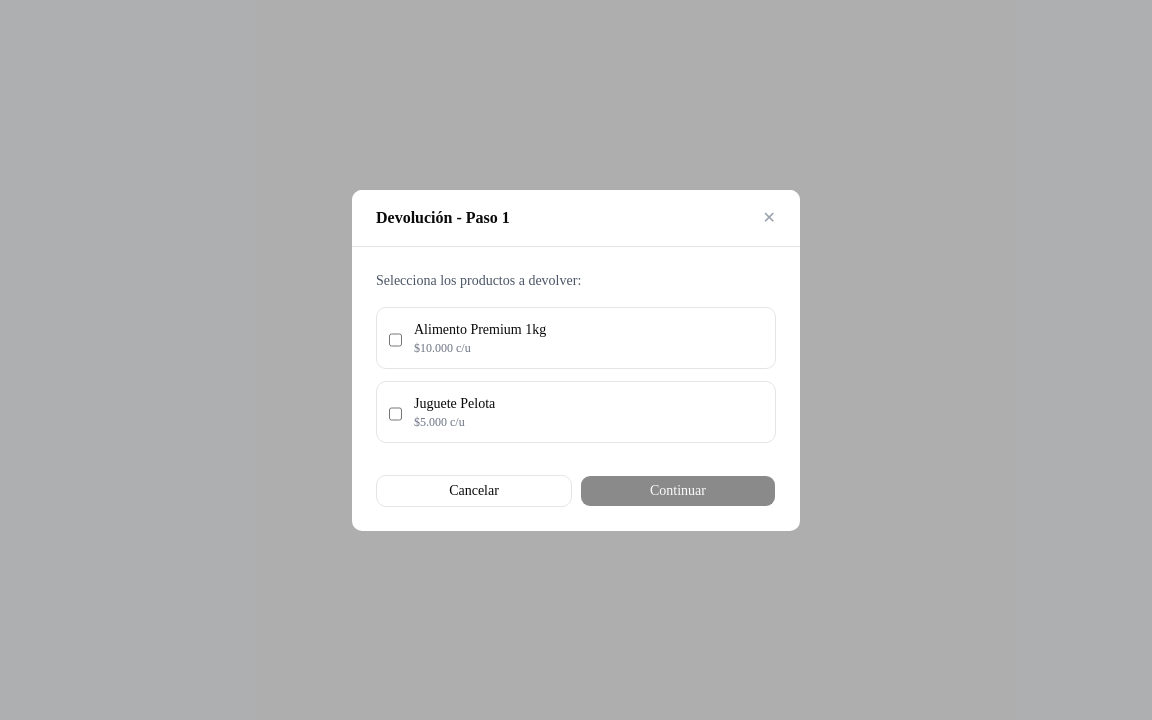
DevolucionModal — Paso 1: selección de ítems › DV-02: hacer click en el div del producto también selecciona el ítem
Clickear el texto del producto dentro del div clickeable
Click the text "Alimento Premium 1kg": (480, 329) x1=414 y1=322 x2=546 y2=336
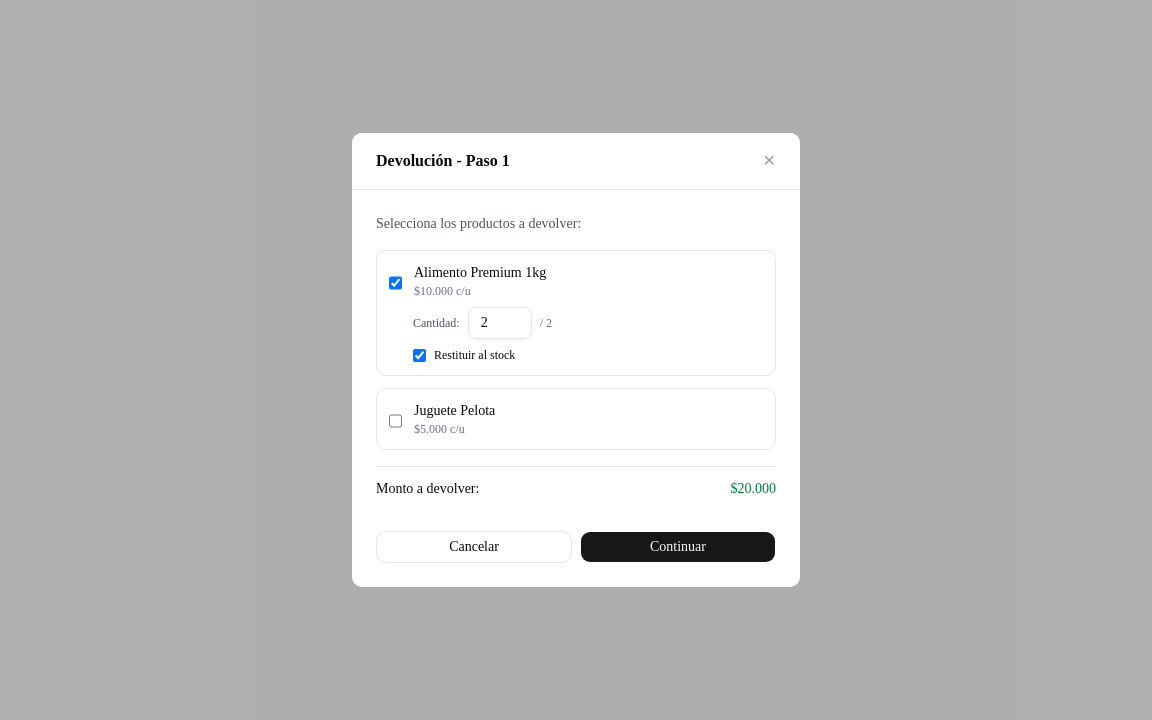
Expected: the button "Continuar" is enabled, x1=580 y1=531 x2=776 y2=563
